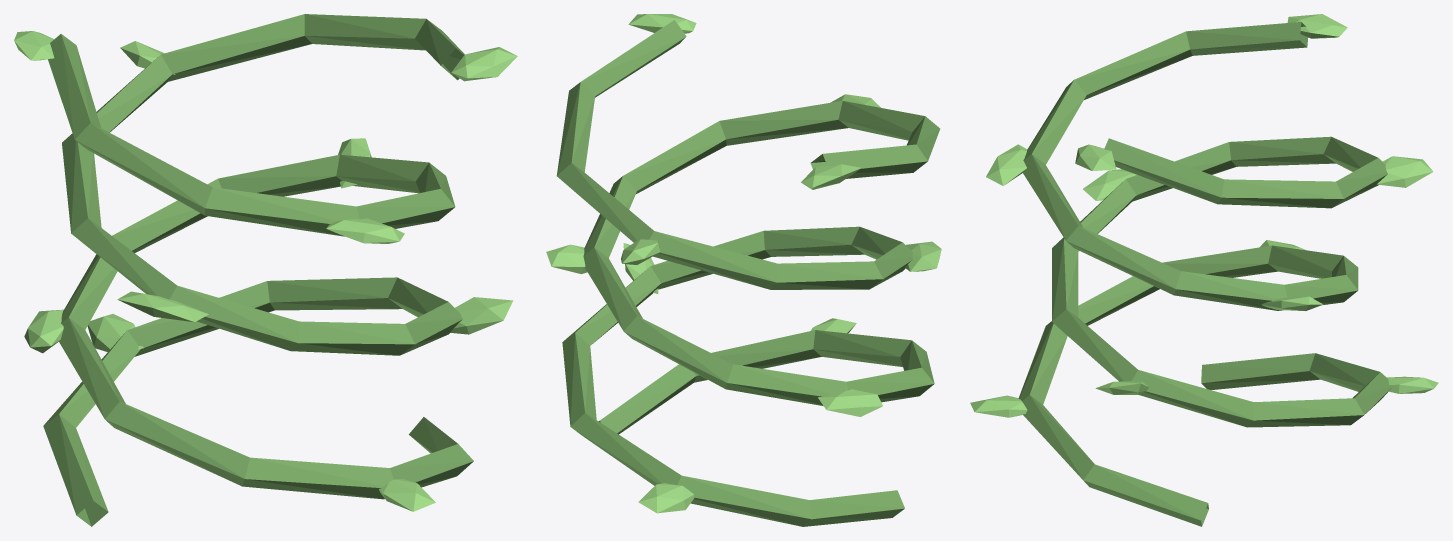
The model's file is ob_vine1.glb.
The picture shows the model from 3 angles, left to right: view 1: azimuth 30°, elevation 25°; view 2: azimuth 150°, elevation 25°; view 3: azimuth 270°, elevation 25°; orthographic projection. The views are drawn at different scales.
Bounding box in the file's own units: 1.23 × 1.34 × 1.5.
